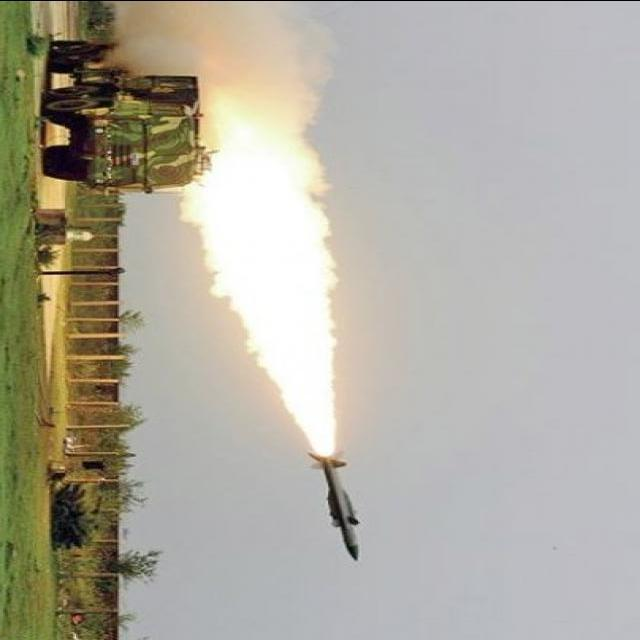Missile: (306, 445, 369, 565)
